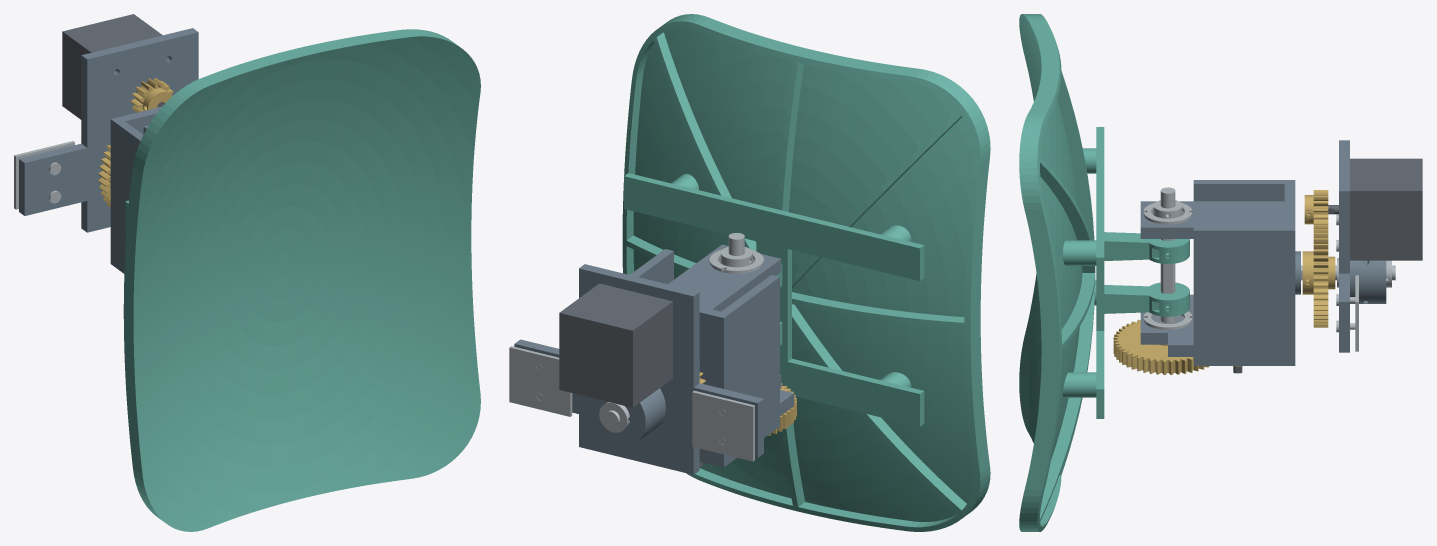
File: rakitan.glb
3 renders of one model, left to right at view 1: azimuth 30°, elevation 25°; view 2: azimuth 150°, elevation 25°; view 3: azimuth 270°, elevation 25°, orthographic. The views are drawn at different scales.
Parts seen in each view (by area): view 1: 16_flap, 1_flange, 5_motor, 7_frame, 6_pinion, 2_backplates; view 2: 16_flap, 1_flange, 7_frame, 5_motor, 2_backplates, 9_retainers, 11_pan_collars; view 3: 16_flap, 7_frame, 5_motor, 1_flange, 17_driven, 13_driven, 8_caps, 9_retainers, 18_tilt_shaft, 6_pinion.
Boxes of the visible parts, x1=… form: 16_flap: x1=123, y1=29, x2=480, y2=531; 1_flange: x1=19, y1=28, x2=198, y2=232; 5_motor: x1=62, y1=14, x2=163, y2=119; 7_frame: x1=110, y1=106, x2=161, y2=273; 6_pinion: x1=130, y1=78, x2=173, y2=112; 2_backplates: x1=14, y1=141, x2=74, y2=209; 16_flap: x1=622, y1=14, x2=990, y2=531; 1_flange: x1=514, y1=264, x2=763, y2=474; 7_frame: x1=630, y1=249, x2=794, y2=467; 5_motor: x1=559, y1=283, x2=672, y2=407; 2_backplates: x1=509, y1=346, x2=754, y2=461; 9_retainers: x1=709, y1=250, x2=763, y2=273; 11_pan_collars: x1=599, y1=402, x2=629, y2=432; 16_flap: x1=1019, y1=14, x2=1189, y2=531; 7_frame: x1=1168, y1=180, x2=1300, y2=365; 5_motor: x1=1308, y1=158, x2=1422, y2=260; 1_flange: x1=1339, y1=140, x2=1386, y2=352; 17_driven: x1=1113, y1=319, x2=1209, y2=375; 13_driven: x1=1302, y1=228, x2=1335, y2=327; 8_caps: x1=1140, y1=201, x2=1167, y2=344; 9_retainers: x1=1143, y1=203, x2=1192, y2=344; 18_tilt_shaft: x1=1160, y1=187, x2=1175, y2=322; 6_pinion: x1=1304, y1=190, x2=1328, y2=228.
Bounding box in the file's own units: 200 × 250 × 222.
